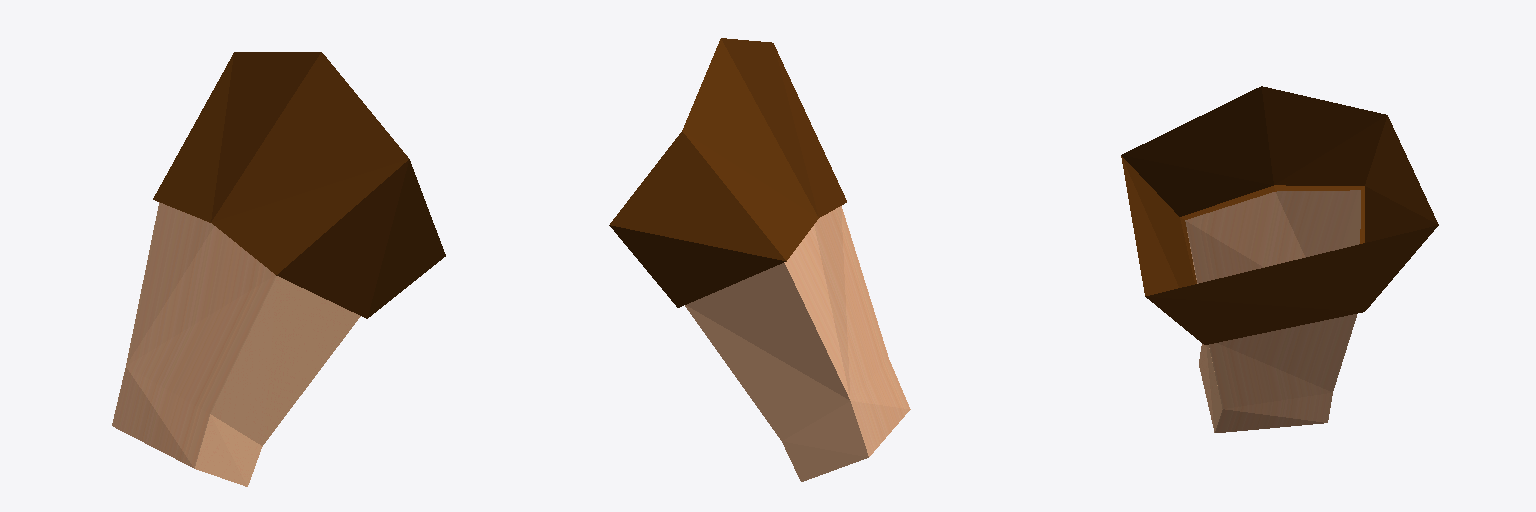
The picture shows the model from 3 angles: view 1: azimuth 30°, elevation 25°; view 2: azimuth 150°, elevation 25°; view 3: azimuth 270°, elevation 25°; orthographic projection.
Parts seen in each view (by area): view 1: Cube.008; view 2: Cube.008; view 3: Cube.008.
Boxes of the visible parts, box(x1,y1,x2,y2) form: Cube.008: box(112, 52, 445, 486); Cube.008: box(609, 38, 910, 481); Cube.008: box(1121, 86, 1438, 432).
Size of the model in its own units: 0.4185 by 0.6435 by 0.4694.
2 materials, 2 textured.